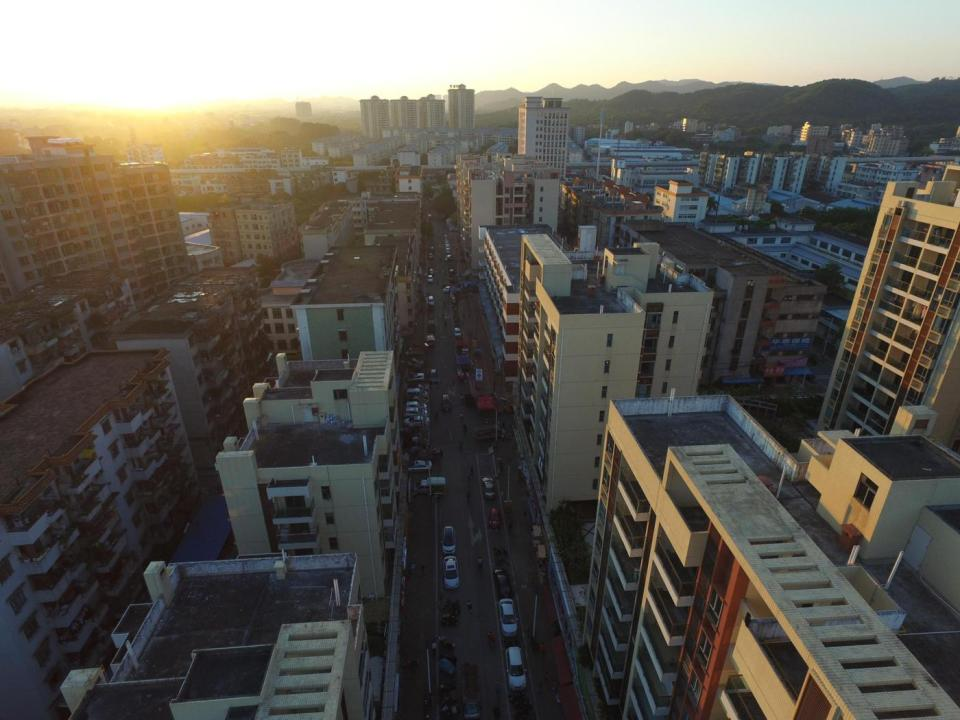car: (505, 644, 528, 692), (499, 597, 519, 638), (443, 556, 459, 590), (494, 568, 512, 597), (440, 526, 458, 555), (481, 476, 497, 500), (404, 460, 432, 473), (403, 436, 429, 448), (404, 416, 432, 427), (488, 507, 501, 529), (405, 400, 428, 410), (441, 392, 452, 412), (404, 407, 428, 416), (407, 372, 425, 382), (428, 368, 438, 384), (454, 326, 462, 339), (442, 285, 454, 293), (428, 295, 435, 306), (426, 274, 434, 282), (428, 268, 434, 274)
truck: (460, 661, 480, 720), (414, 476, 446, 498), (474, 423, 506, 442), (404, 342, 425, 358), (407, 356, 425, 368), (426, 317, 436, 335)
